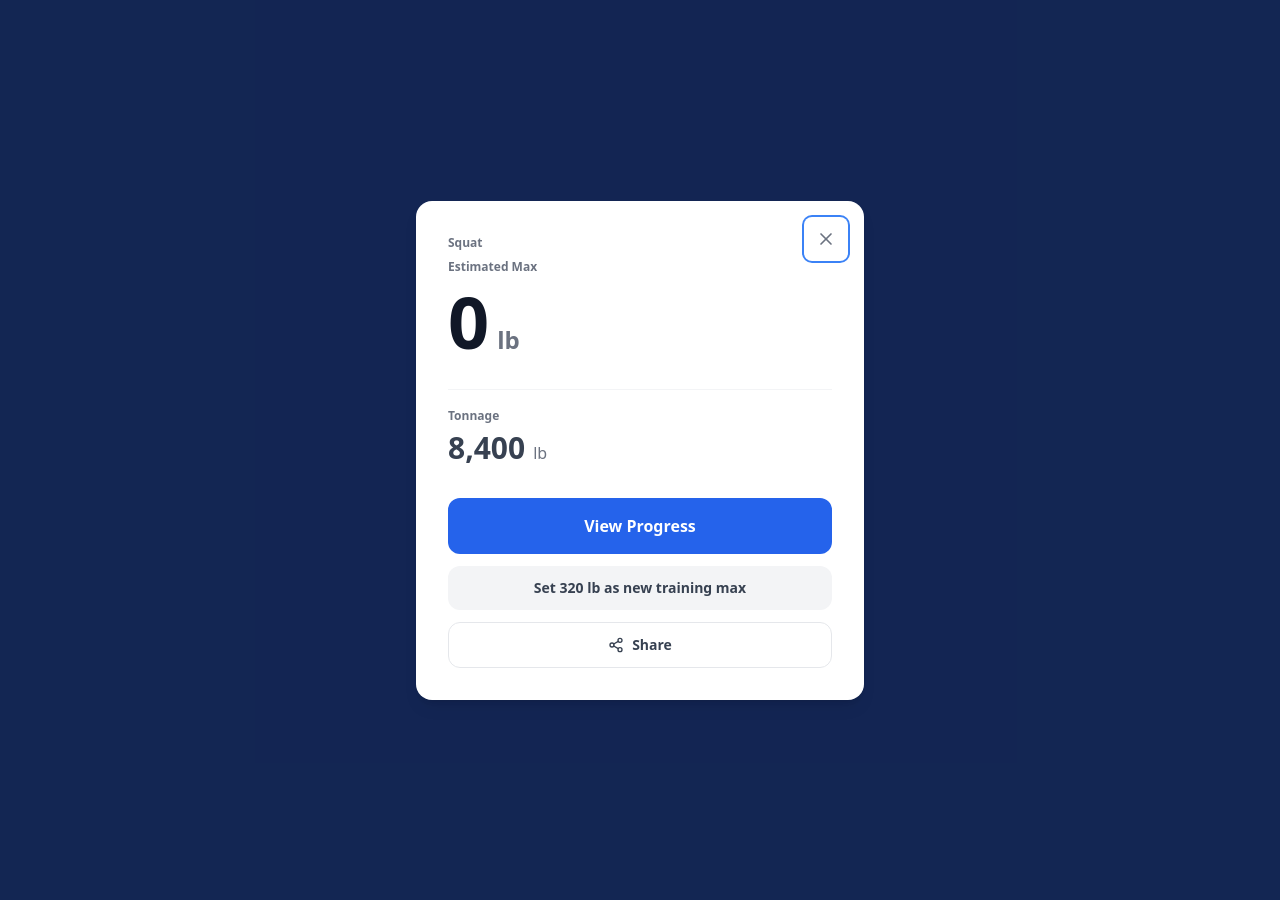
Test: WorkoutSuccessModal › shows a loading then success state on the training-max button without closing the modal
Step 1. Click the button "Set 320 lb as new training max" → (640, 588), box left=448, top=566, right=832, bottom=610
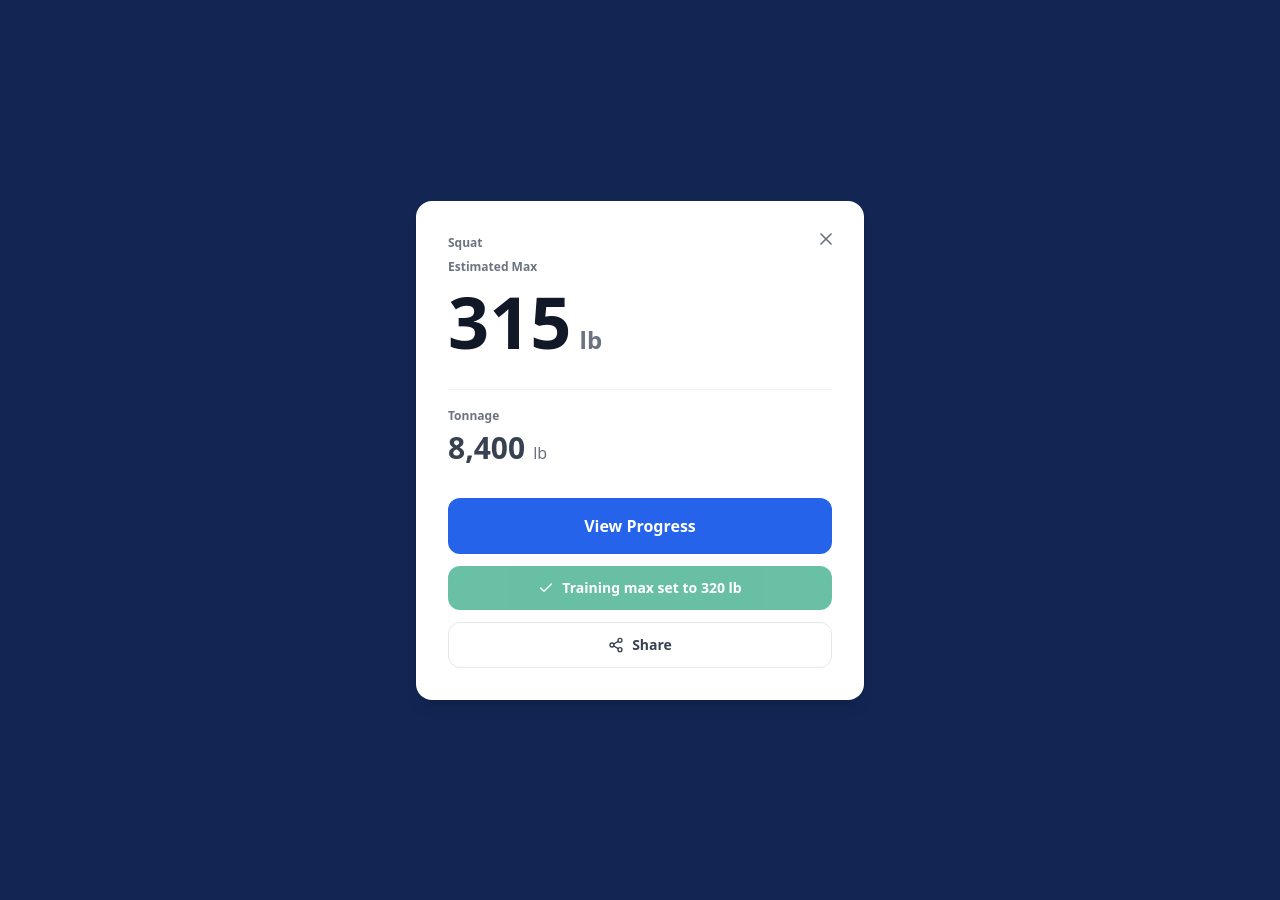
Expected: the button named "Saving…" is disabled, left=448, top=566, right=832, bottom=610
Expected: the button "Training max set to 320 lb" is disabled, left=448, top=566, right=832, bottom=610
